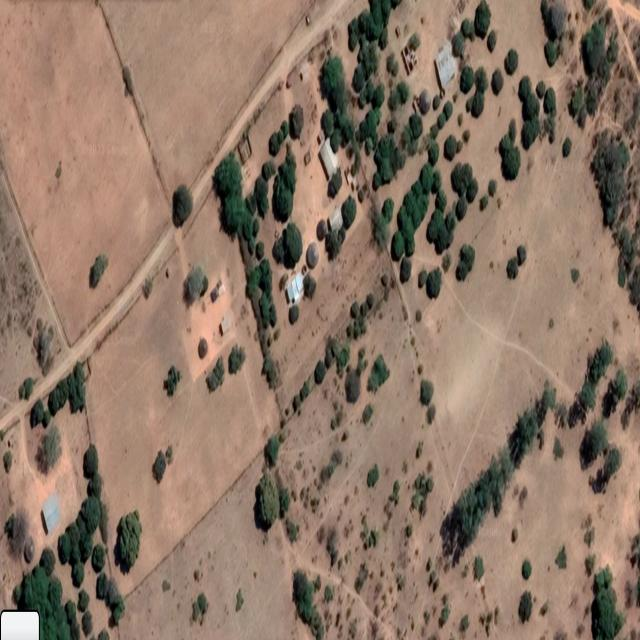boundaries: (3, 1, 355, 438), (112, 415, 288, 616), (438, 366, 564, 568), (85, 0, 184, 232), (0, 150, 78, 353), (285, 533, 411, 640), (605, 0, 640, 94)
